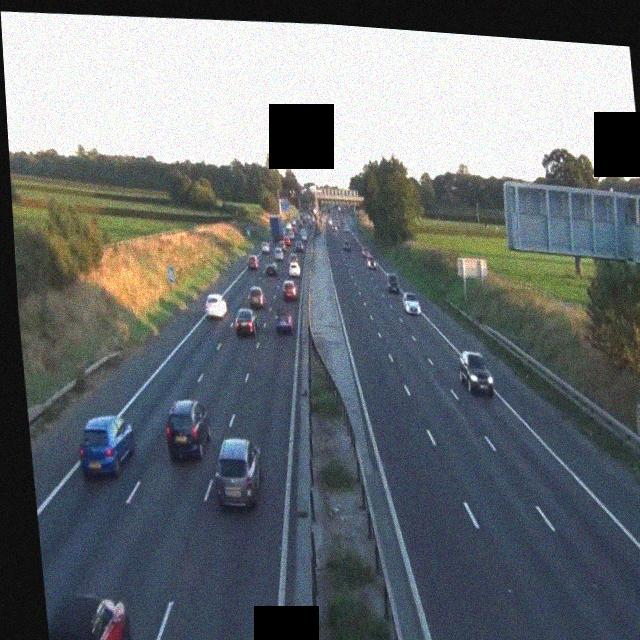car: (75, 410, 137, 481), (44, 590, 128, 640), (212, 434, 265, 509), (162, 396, 212, 461), (456, 348, 495, 398), (234, 306, 258, 336), (203, 290, 227, 318), (247, 284, 266, 310), (402, 289, 421, 315), (276, 307, 295, 333), (280, 277, 296, 300), (385, 272, 400, 293), (264, 257, 279, 276), (247, 253, 261, 271), (287, 259, 300, 278), (363, 252, 375, 268), (274, 242, 285, 256), (296, 238, 305, 253)
truck: (267, 216, 284, 245)
